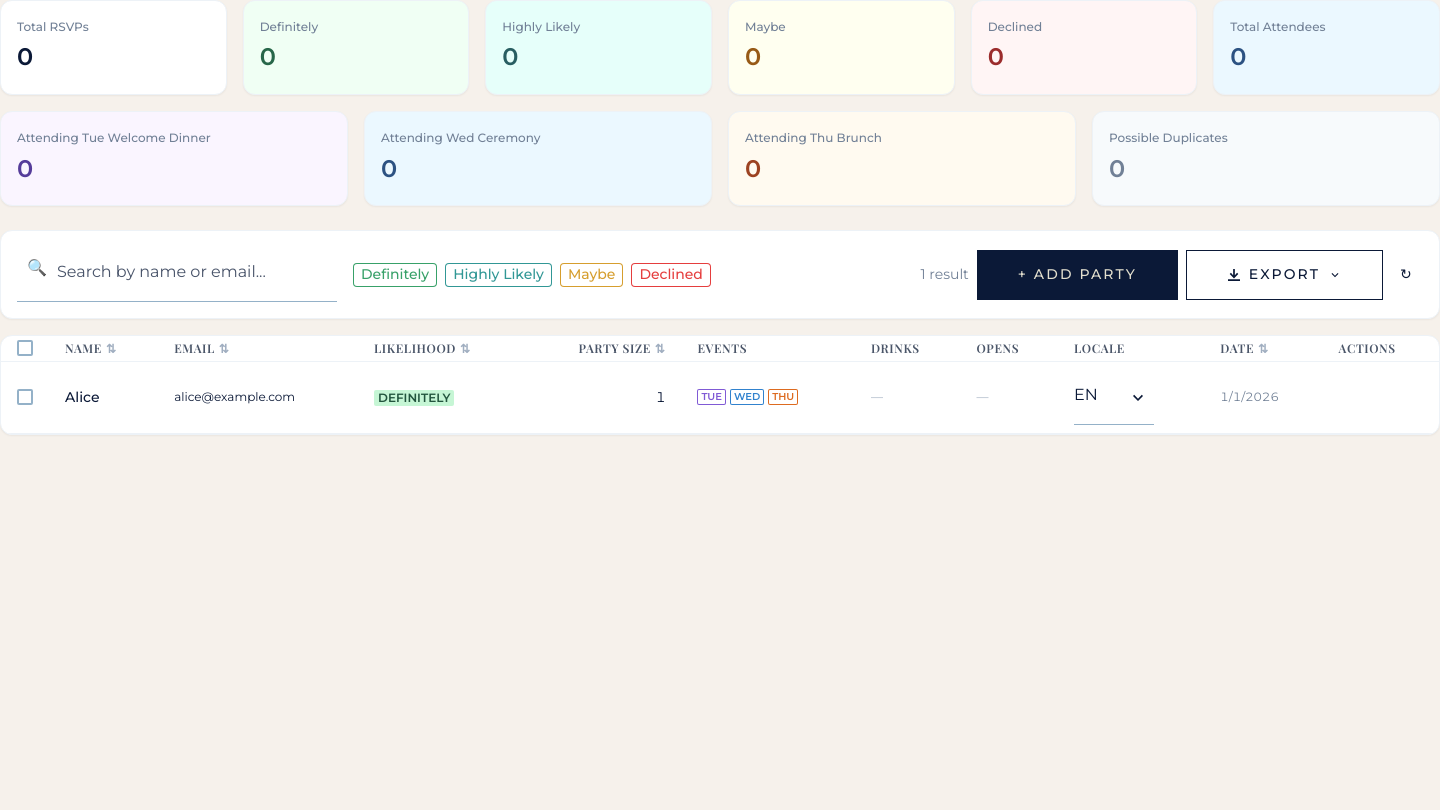
RsvpDashboard — manually added parties › opens the Add Party modal in add mode when "+ Add Party" is clicked
Click the button "+ Add Party".
click(1077, 275)  # box [977,250,1178,300]
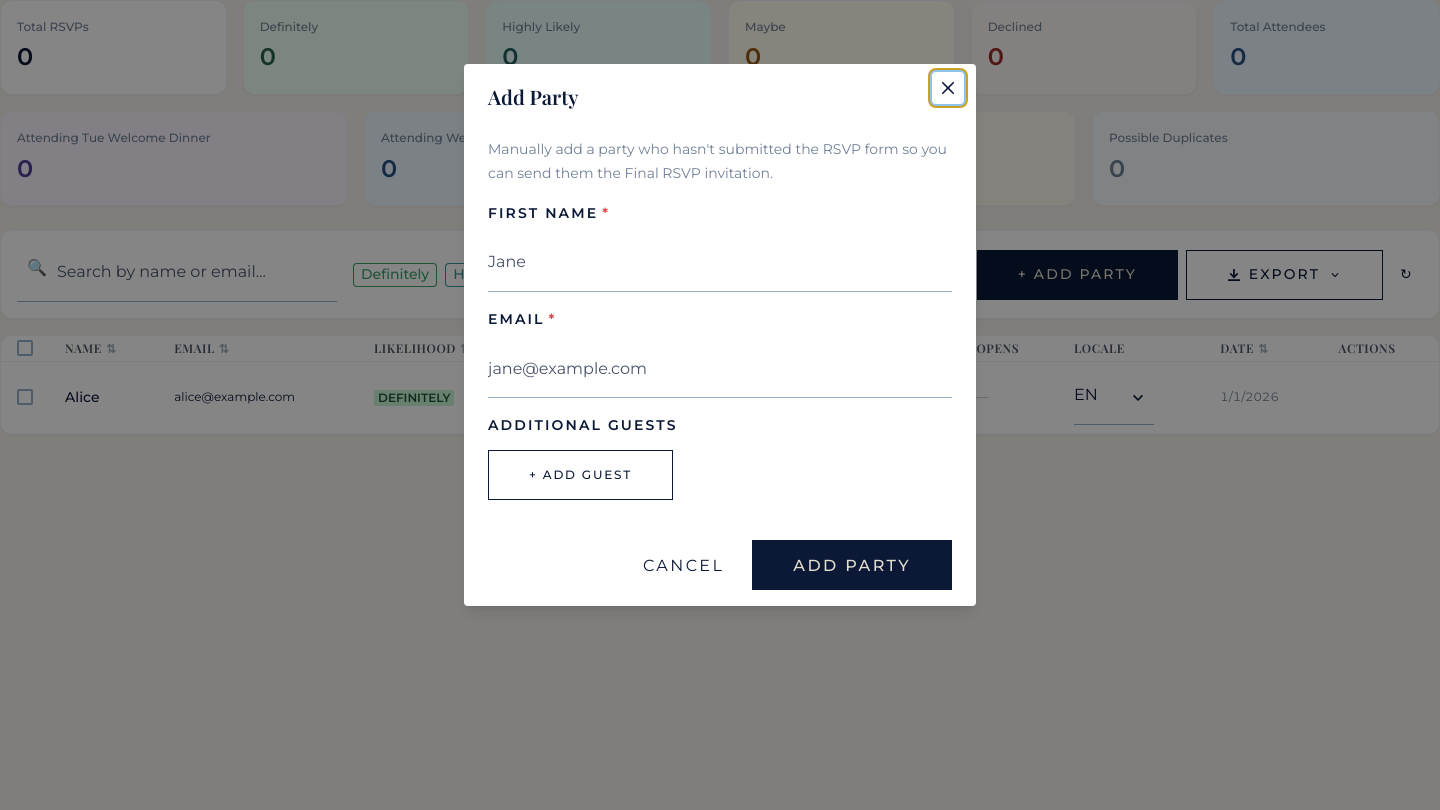
Check: the text "hasn.t submitted the RSVP form" is shown, box [488,140,947,182]
